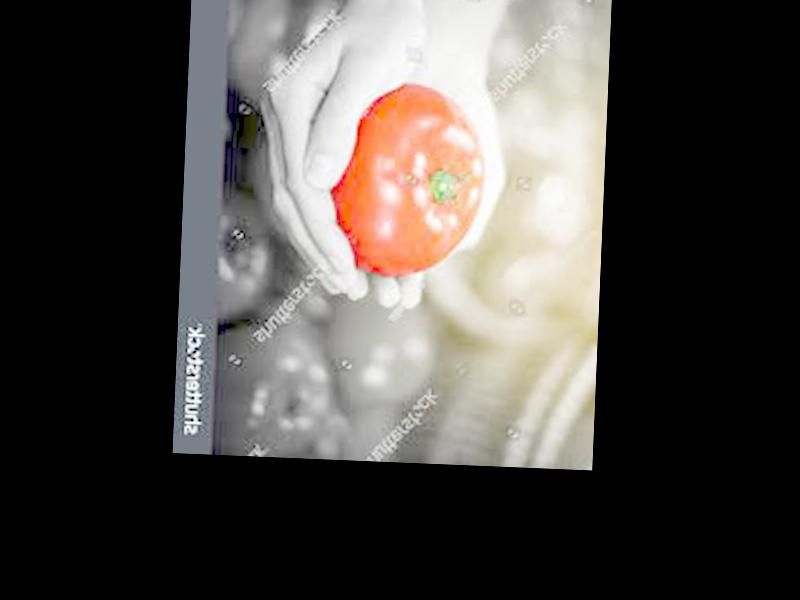Tomato: (328, 80, 487, 279)
